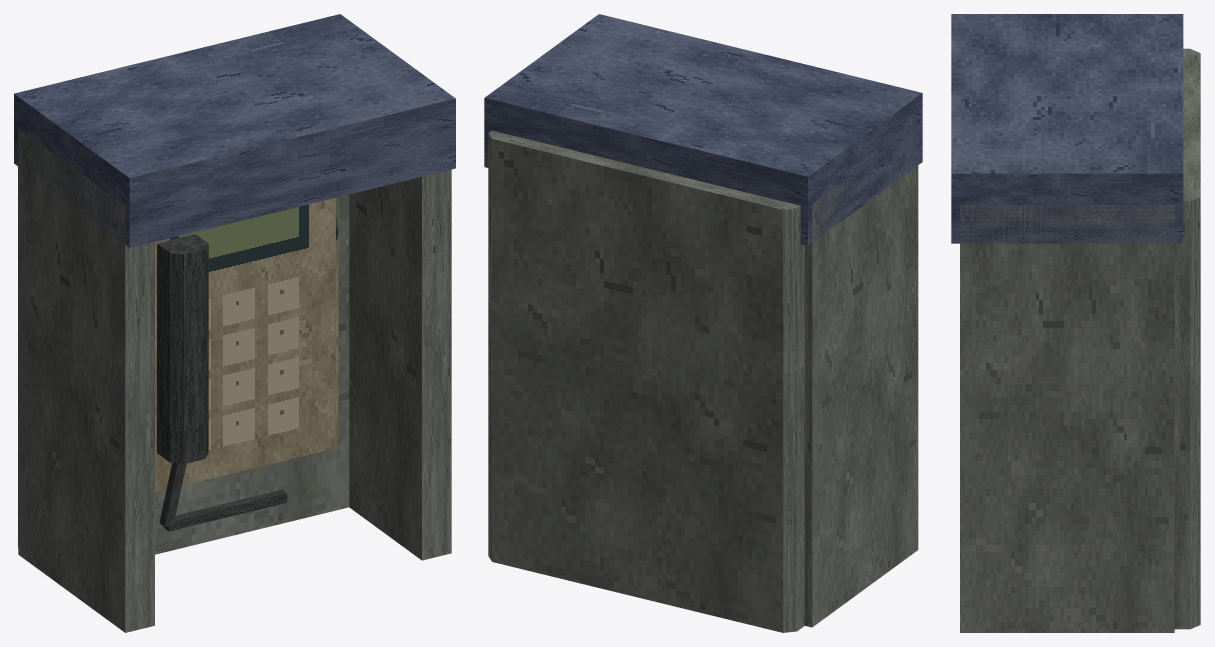
Rendered from payphone.glb.
3 views of the same model, side by side, from view 1: azimuth 30°, elevation 25°; view 2: azimuth 150°, elevation 25°; view 3: azimuth 270°, elevation 25° (orthographic).
Parts seen in each view (by area): view 1: Body; view 2: Body; view 3: Body.
Boxes of the visible parts, box(x1,y1,x2,y2) form: Body: box(14, 14, 455, 632); Body: box(484, 14, 922, 632); Body: box(951, 14, 1200, 632).
Bounding box in the file's own units: 0.44 × 0.59 × 0.29.
1 material, 1 textured.
